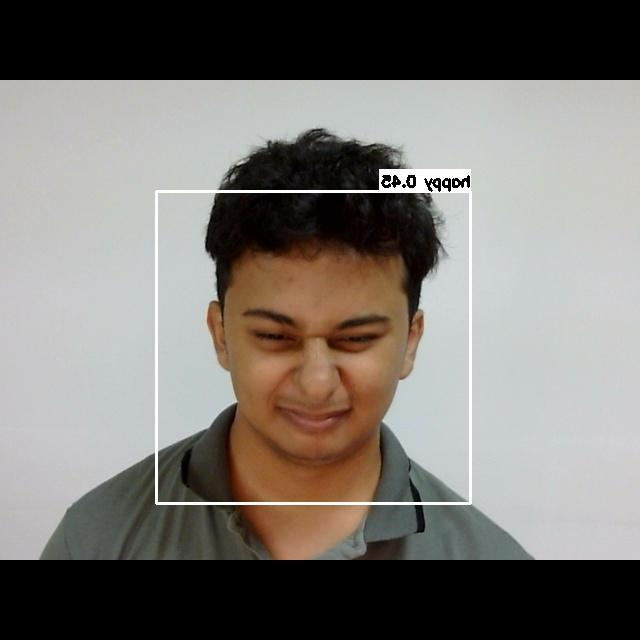Angry: (213, 279, 407, 443)
